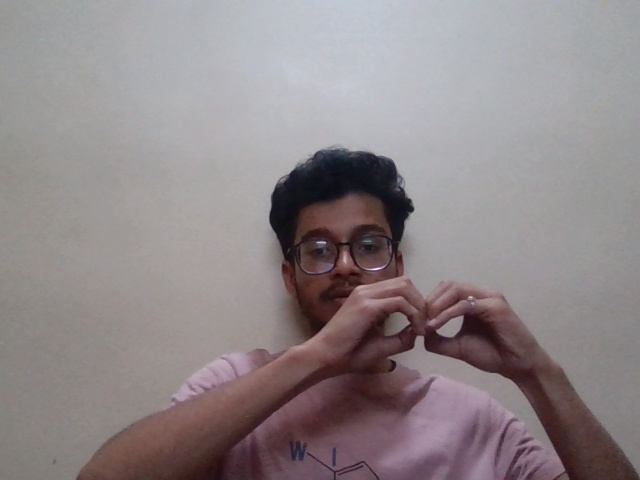see: (316, 274, 543, 391)
